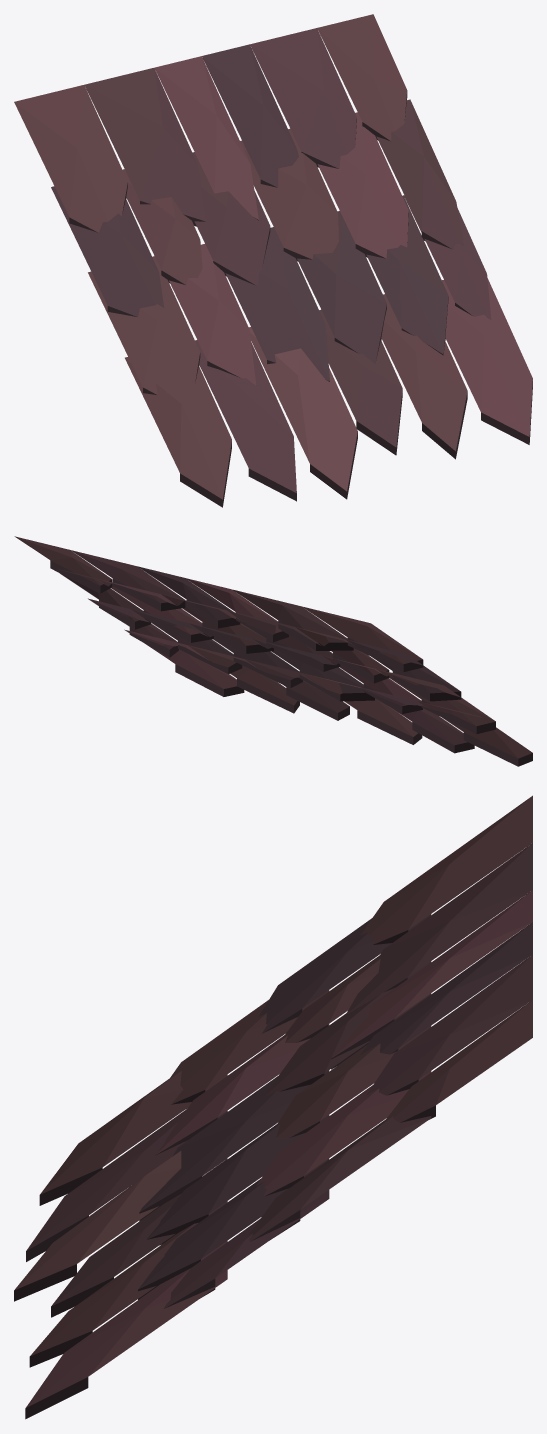
File: cedar_course_2.glb
3 renders of one model, top to bottom at view 1: azimuth 30°, elevation 25°; view 2: azimuth 150°, elevation 25°; view 3: azimuth 270°, elevation 25°, orthographic. The views are drawn at different scales.
Visible parts, largest first — view 1: cedar_course_2; view 2: cedar_course_2; view 3: cedar_course_2.
Boxes of the visible parts, x1,y1,x2,y2 form: cedar_course_2: [14, 14, 532, 507]; cedar_course_2: [14, 536, 532, 766]; cedar_course_2: [14, 795, 532, 1419].
Bounding box in the file's own units: 2 × 1.57 × 1.81.
